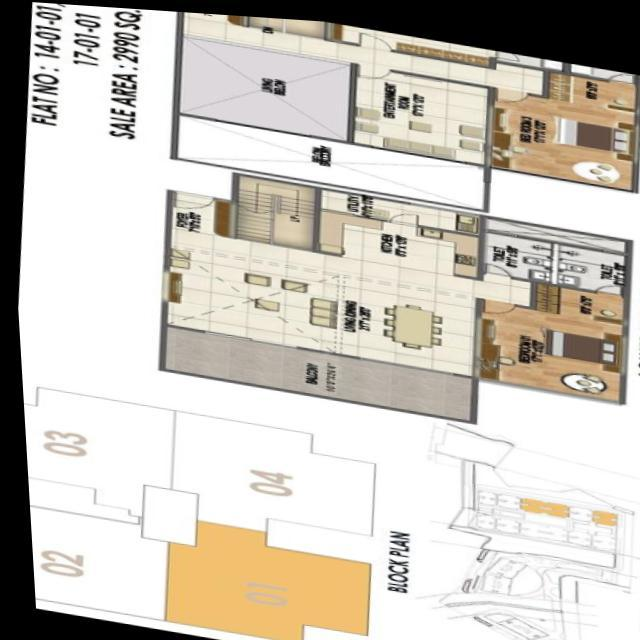Balcony-Sitout: (153, 322, 470, 417), (169, 110, 482, 203), (173, 30, 353, 138)
Bedroom: (484, 52, 640, 182), (474, 266, 627, 395), (331, 17, 490, 59)
Dining: (377, 293, 445, 348)
Kitchen: (313, 203, 470, 271)
Living: (163, 242, 337, 349), (351, 56, 489, 158)
Toilet: (553, 238, 617, 286), (478, 227, 542, 275), (494, 42, 560, 63), (567, 54, 630, 72)
Utility: (318, 182, 481, 229)
